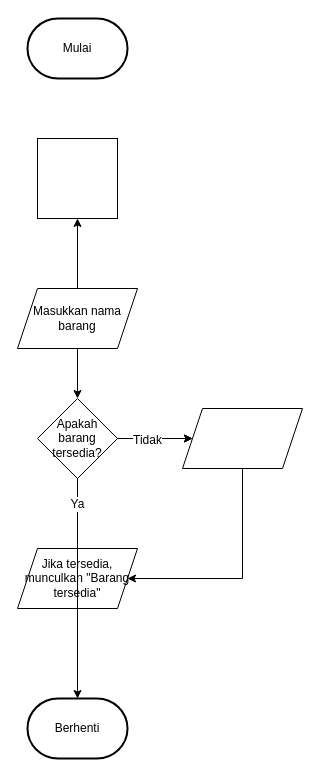
Image size: 320x776. Some labels were removed from this diagram. The shapes that lost their labels are listed below. From the top down, each one's centre as x and y in pixels, then its label:
point (77, 178): Daftar barang 1. Beras 2. Ayam 3. Kacang
point (242, 438): Jika tidak, munculkan "Barang tidak tersedia"
